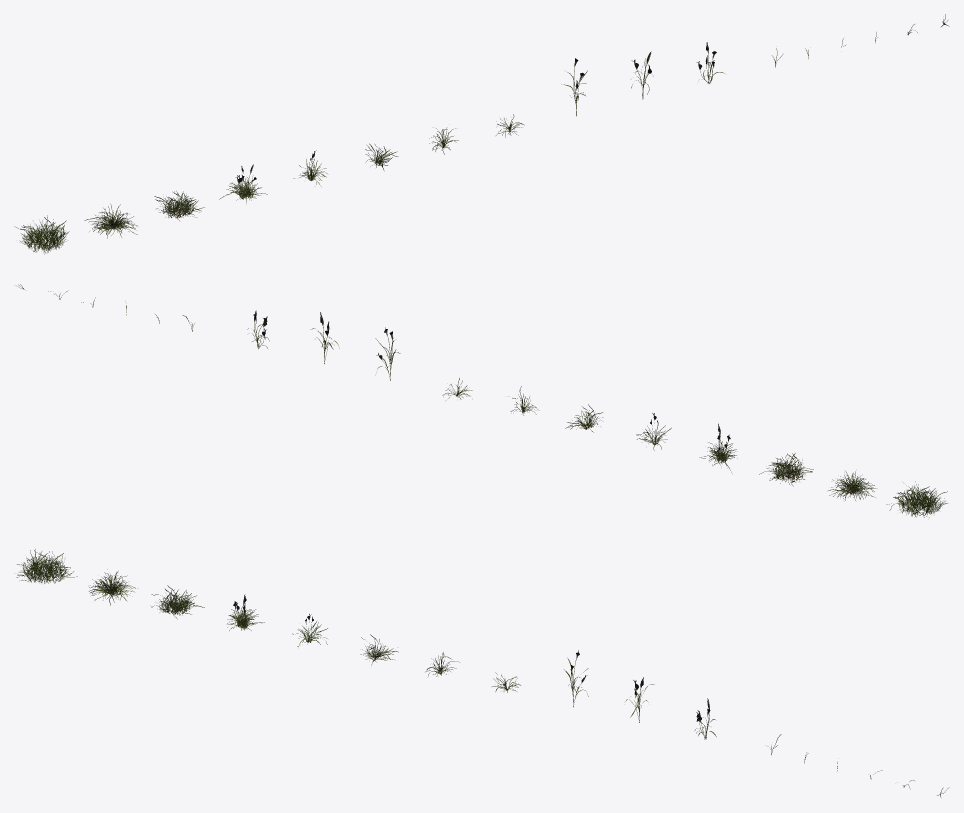
The model's file is grass_medium_01.gltf.
3 views of the same model, one above another, from view 1: azimuth 30°, elevation 25°; view 2: azimuth 150°, elevation 25°; view 3: azimuth 330°, elevation 25° (orthographic).
Parts seen in each view (by area): view 1: grass_medium_01_large_a_LOD0, grass_medium_01_large_b_LOD0, grass_medium_01_large_c_LOD0; view 2: grass_medium_01_large_a_LOD0, grass_medium_01_large_c_LOD0, grass_medium_01_large_b_LOD0; view 3: grass_medium_01_large_a_LOD0, grass_medium_01_large_b_LOD0, grass_medium_01_large_c_LOD0.
Part boxes in pixels (x1,y1,x2,y2): grass_medium_01_large_a_LOD0: (14, 215, 69, 254); grass_medium_01_large_b_LOD0: (84, 204, 137, 238); grass_medium_01_large_c_LOD0: (154, 191, 204, 220); grass_medium_01_large_a_LOD0: (886, 481, 947, 517); grass_medium_01_large_c_LOD0: (759, 453, 813, 486); grass_medium_01_large_b_LOD0: (828, 471, 877, 500); grass_medium_01_large_a_LOD0: (16, 549, 77, 583); grass_medium_01_large_b_LOD0: (89, 569, 137, 605); grass_medium_01_large_c_LOD0: (151, 585, 204, 619).
Size of the model in its own units: 5.6 by 0.3426 by 0.3266.
1 material, 1 textured.
